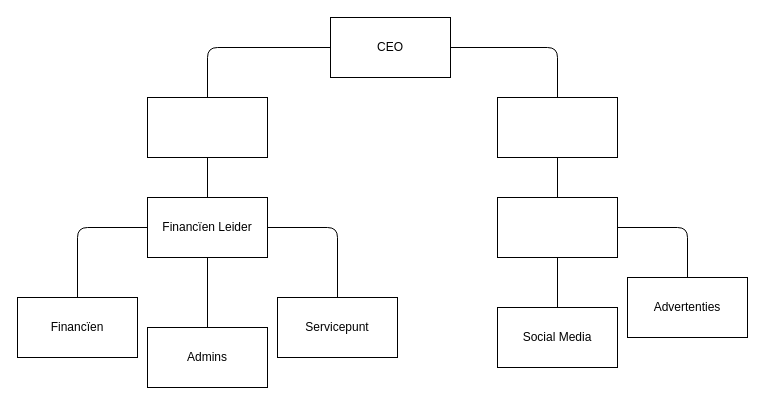
Image size: 765x405. Some labels were removed from this diagram. Each missing label, with the box of its shape:
Financïen Directeur: (146, 96, 268, 158)
Marketing Directeur: (496, 96, 618, 158)
Marketing Leider: (496, 196, 618, 258)
